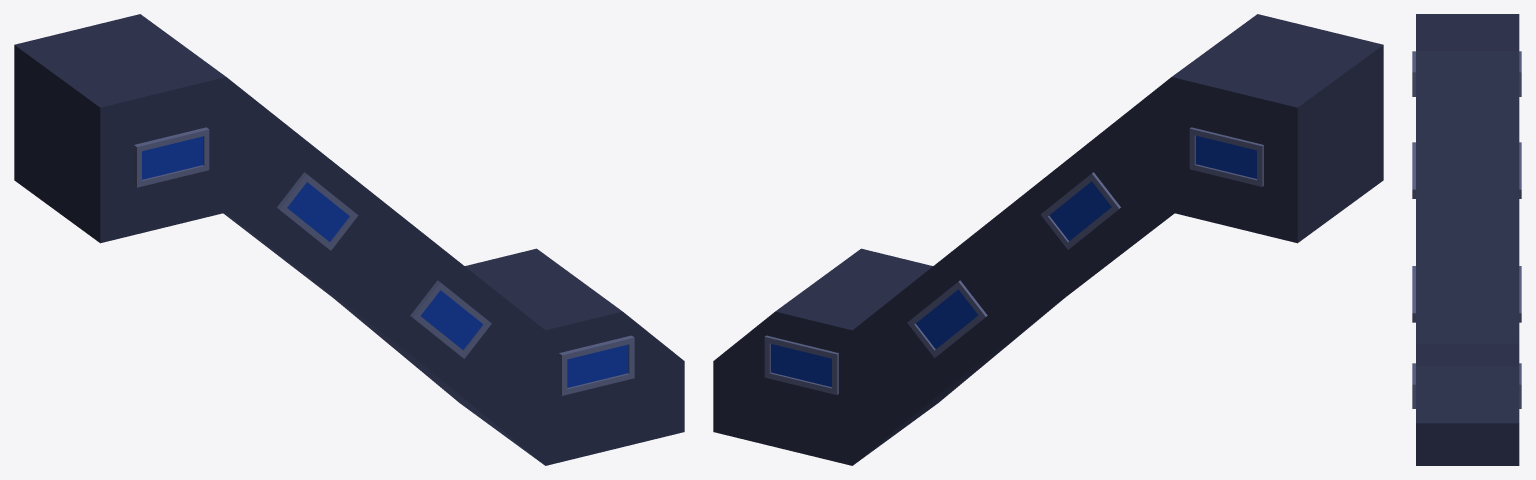
The model's file is Factory_part6.FBX.
3 views of the same model, side by side, from view 1: azimuth 30°, elevation 25°; view 2: azimuth 150°, elevation 25°; view 3: azimuth 270°, elevation 25° (orthographic). The views are drawn at different scales.
Parts seen in each view (by area): view 1: Factory_part6; view 2: Factory_part6; view 3: Factory_part6.
Part boxes in pixels (<box>): Factory_part6: <box>14,14,684,465</box>; Factory_part6: <box>713,14,1383,465</box>; Factory_part6: <box>1412,14,1521,465</box>.
Bounding box in the file's own units: 191 × 146 × 51.32.
